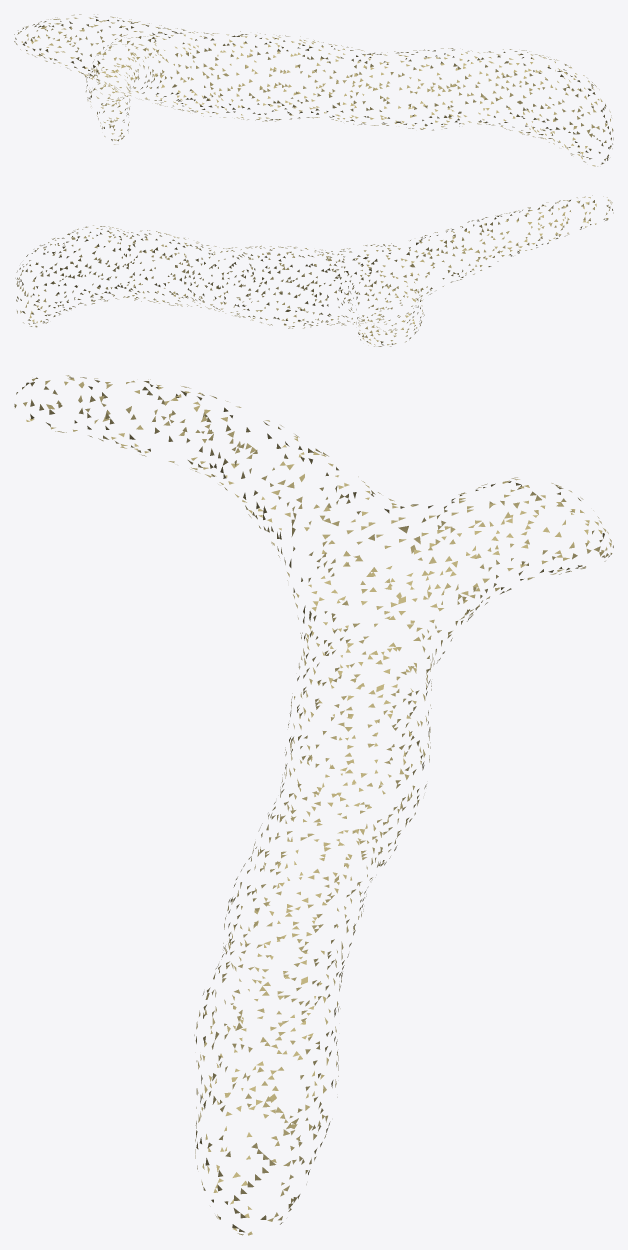
Rendered from morph_008.glb.
The picture shows the model from 3 angles, top to bottom: view 1: azimuth 30°, elevation 25°; view 2: azimuth 150°, elevation 25°; view 3: azimuth 270°, elevation 25°; orthographic projection. The views are drawn at different scales.
Size of the model in its own units: 113 by 44.72 by 59.38.
